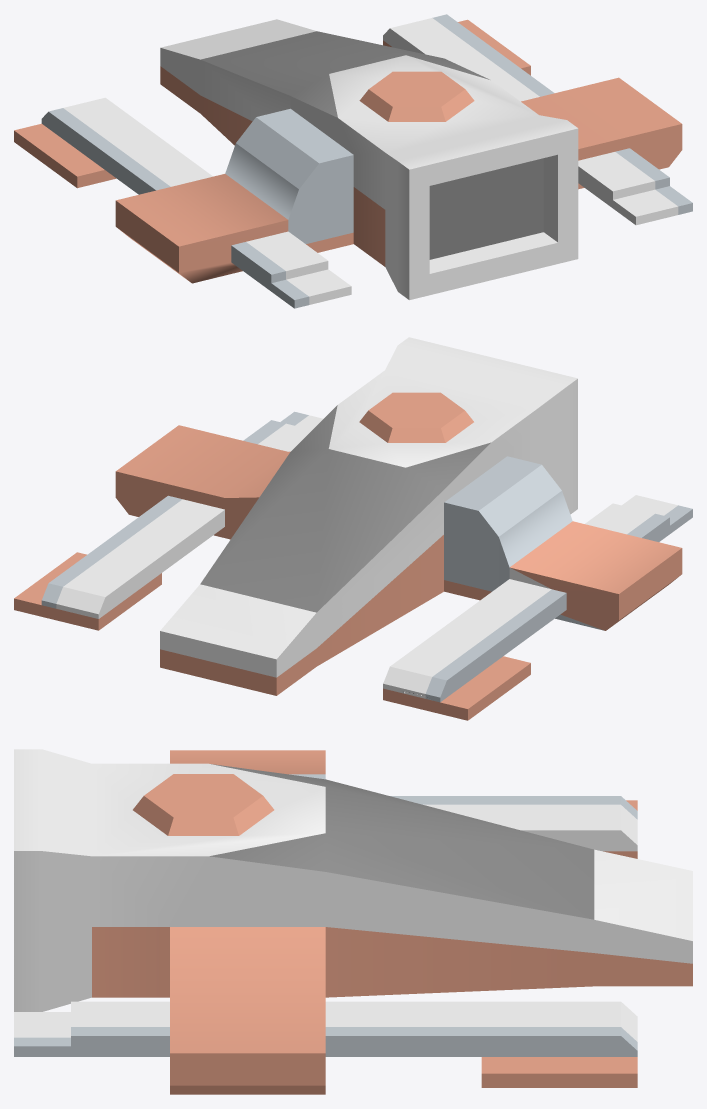
File: spaceCraft10.glb
3 views of the same model, one above another, from view 1: azimuth 30°, elevation 25°; view 2: azimuth 150°, elevation 25°; view 3: azimuth 270°, elevation 25° (orthographic). The views are drawn at different scales.
Parts seen in each view (by area): view 1: spaceCraft5; view 2: spaceCraft5; view 3: spaceCraft5.
Part boxes in pixels (box(x1,y1,x2,y2)): spaceCraft5: box(14, 14, 692, 308); spaceCraft5: box(14, 337, 692, 720); spaceCraft5: box(14, 749, 692, 1094).
Bounding box in the file's own units: 18.16 × 4.63 × 17.2.
